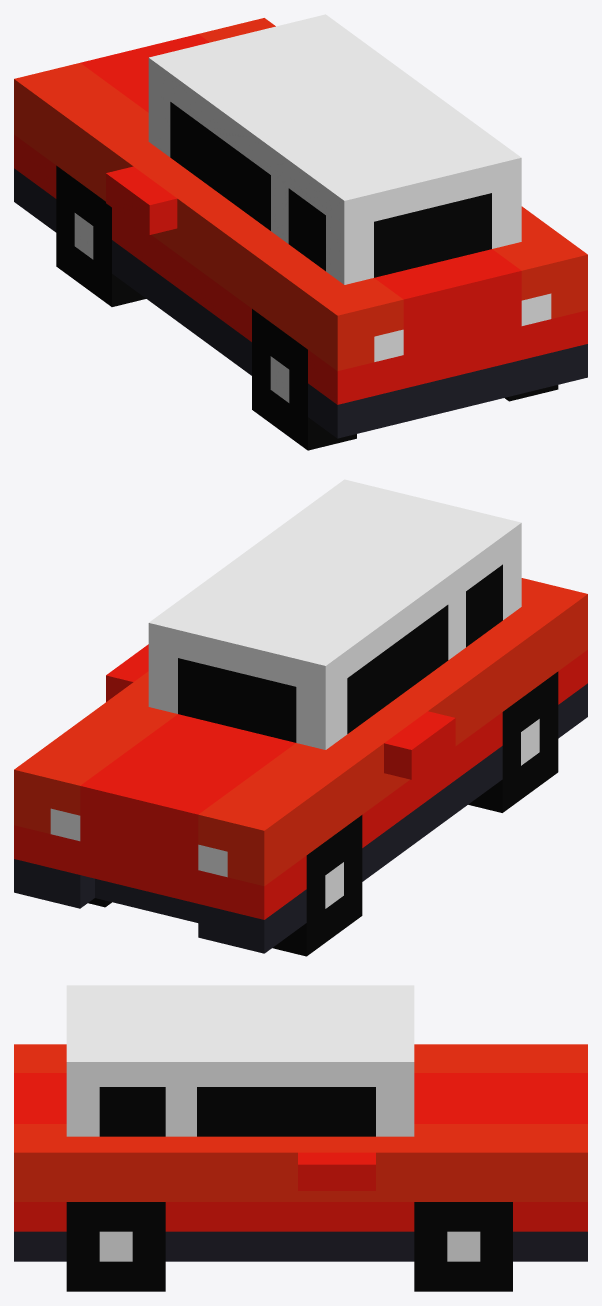
File: CR_Car_01.obj
3 views of the same model, one above another, from view 1: azimuth 30°, elevation 25°; view 2: azimuth 150°, elevation 25°; view 3: azimuth 270°, elevation 25° (orthographic). The views are drawn at different scales.
Visible parts, largest first — view 1: Car_01; view 2: Car_01; view 3: Car_01.
Boxes of the visible parts, x1,y1,x2,y2 form: Car_01: (14,14,587,450); Car_01: (14,479,587,956); Car_01: (14,985,587,1291).
Size of the model in its own units: 6.33 by 4.76 by 11.6.
